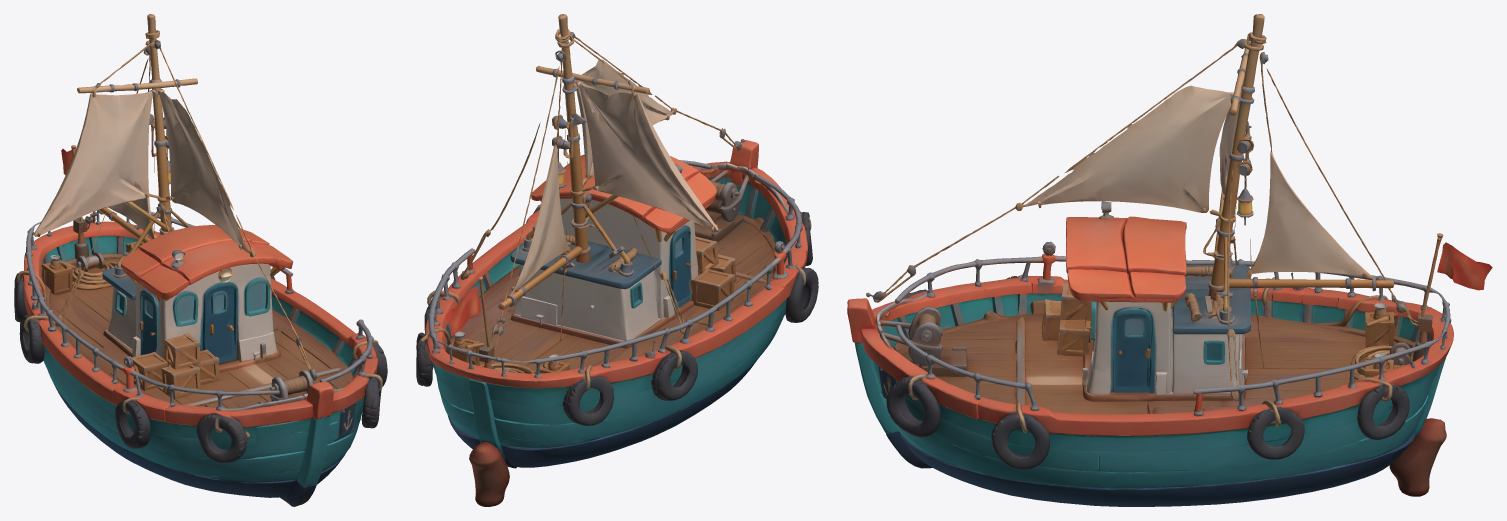
File: fishing-boat-cartoon-source.glb
The picture shows the model from 3 angles, left to right: view 1: azimuth 30°, elevation 25°; view 2: azimuth 150°, elevation 25°; view 3: azimuth 270°, elevation 25°; orthographic projection. The views are drawn at different scales.
Visible parts, largest first — view 1: model; view 2: model; view 3: model.
Part boxes in pixels (<box>): model: <box>14,14,387,506</box>; model: <box>416,14,818,506</box>; model: <box>847,14,1492,506</box>.
Bounding box in the file's own units: 1.02 × 1.55 × 1.9.
1 material, 1 textured.
